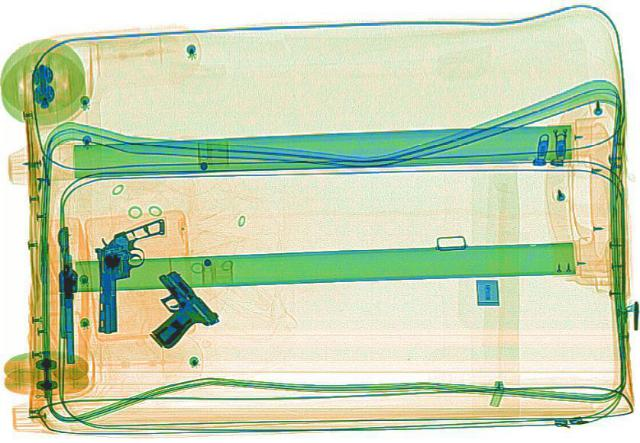Gun: (114, 269, 224, 350), (93, 219, 167, 328), (54, 226, 80, 369)
